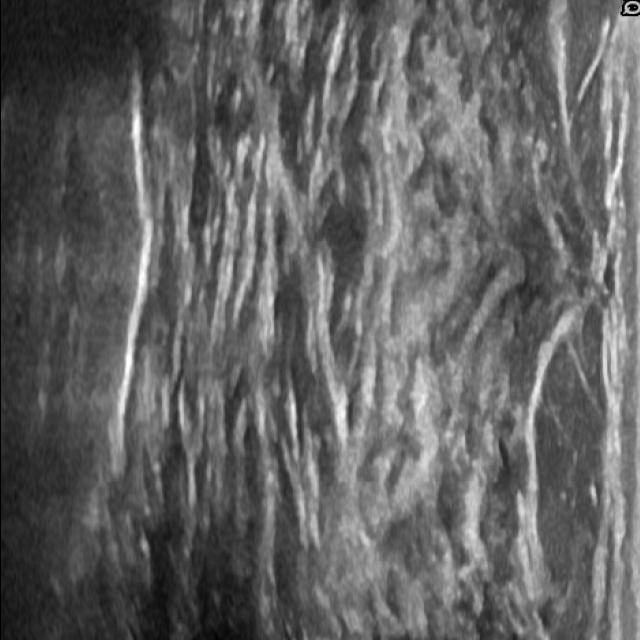Normal: (60, 35, 604, 600)
